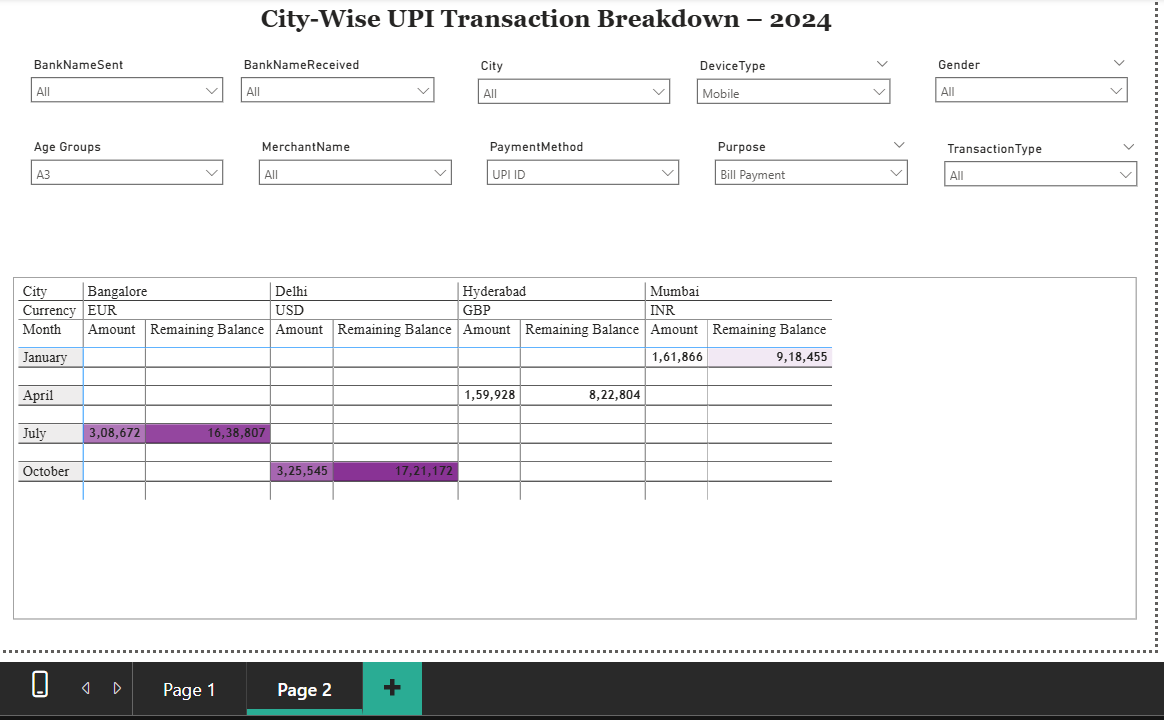

What the dashboard file says about the page in this screenshot:
{"tool":"powerbi","page":{"name":"Page 2","canvas":[1280,720],"ordinal":1},"visuals":[{"type":"slicer","fields":{"Values":["UPI Transactions.BankNameSent"]},"box":[29.8,59.6,231.9,79.5],"z":0},{"type":"slicer","fields":{"Values":["UPI Transactions.City"]},"box":[523.4,61.3,231.9,79.5],"z":1000},{"type":"slicer","fields":{"Values":["UPI Transactions.BankNameReceived"]},"box":[261.7,59.6,233.6,79.5],"z":2000},{"type":"slicer","fields":{"Values":["UPI Transactions.DeviceType"]},"box":[765.3,61.3,233.6,79.5],"z":3000},{"type":"slicer","fields":{"Values":["UPI Transactions.Gender"]},"box":[1028.7,59.6,231.9,77.9],"z":4000},{"type":"slicer","fields":{"Values":["UPI Transactions.Age Groups"]},"box":[30,151.5,232,80],"z":5000},{"type":"slicer","fields":{"Values":["UPI Transactions.PaymentMethod"]},"box":[534,151.5,232,79.4],"z":6000},{"type":"slicer","fields":{"Values":["UPI Transactions.MerchantName"]},"box":[282,151.5,232.4,79.4],"z":7000},{"type":"slicer","fields":{"Values":["UPI Transactions.Purpose"]},"box":[786,151.5,232.4,79.4],"z":8000},{"type":"slicer","fields":{"Values":["UPI Transactions.TransactionType"]},"box":[1038,152.3,232.4,79.4],"z":9000},{"type":"pivotTable","fields":{"Values":["Sum(UPI Transactions.Amount)","Sum(UPI Transactions.RemainingBalance)"],"Rows":["UPI Transactions.TransactionDate.Variation.Date Hierarchy.Month"],"Columns":["UPI Transactions.City","UPI Transactions.Currency"]},"box":[19.9,308.1,1240.7,377.7],"z":10000},{"type":"textbox","box":[281.6,1.7,689.1,58],"z":11000}]}

Visuals, with their boxes on the page's 1280x720 design canvas (x1, y1, x2, y2). These are canvas units, not pixel positions in the 1164x720 screenshot, which may show the page scaled, cropped or inside an application window:
slicer - UPI Transactions.BankNameSent: locate(30, 60, 262, 139)
slicer - UPI Transactions.City: locate(523, 61, 755, 141)
slicer - UPI Transactions.BankNameReceived: locate(262, 60, 495, 139)
slicer - UPI Transactions.DeviceType: locate(765, 61, 999, 141)
slicer - UPI Transactions.Gender: locate(1029, 60, 1261, 138)
slicer - UPI Transactions.Age Groups: locate(30, 152, 262, 232)
slicer - UPI Transactions.PaymentMethod: locate(534, 152, 766, 231)
slicer - UPI Transactions.MerchantName: locate(282, 152, 514, 231)
slicer - UPI Transactions.Purpose: locate(786, 152, 1018, 231)
slicer - UPI Transactions.TransactionType: locate(1038, 152, 1270, 232)
pivotTable - Sum(UPI Transactions.Amount) x Sum(UPI Transactions.RemainingBalance): locate(20, 308, 1261, 686)
textbox: locate(282, 2, 971, 60)
